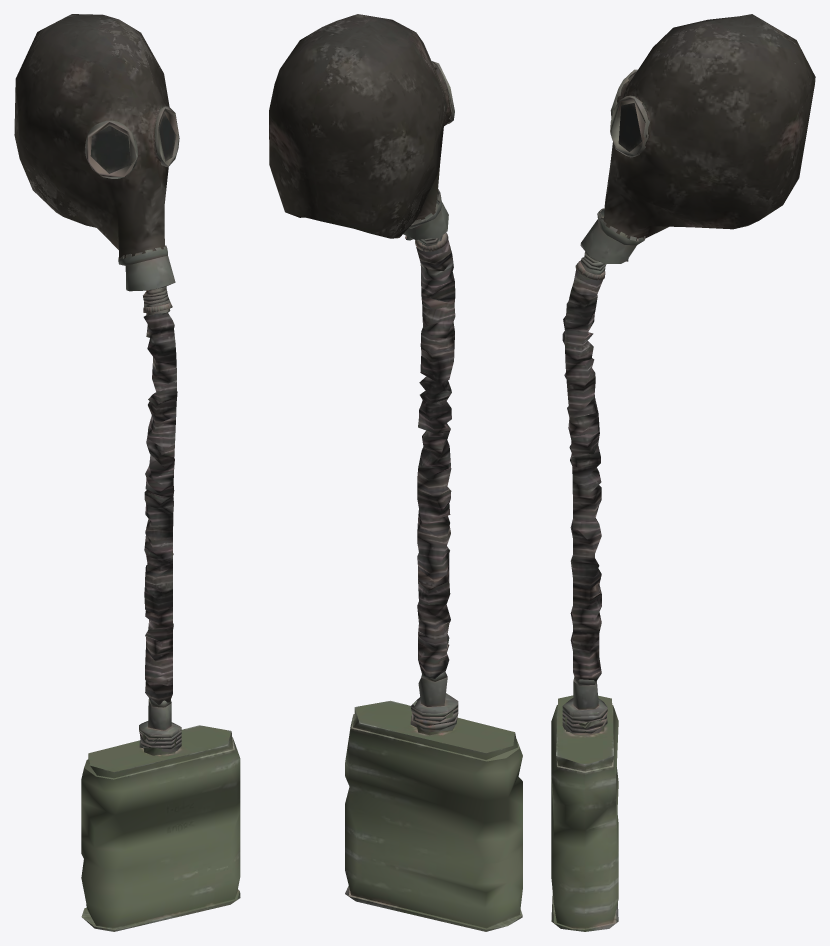
Rendered from old_gas_mask.glb.
3 renders of one model, left to right at view 1: azimuth 30°, elevation 25°; view 2: azimuth 150°, elevation 25°; view 3: azimuth 270°, elevation 25°, orthographic. The views are drawn at different scales.
Visible parts, largest first — view 1: old_gas_mask; view 2: old_gas_mask; view 3: old_gas_mask.
Part boxes in pixels (x1,y1,x2,y2): old_gas_mask: (14, 14, 240, 931); old_gas_mask: (269, 14, 522, 931); old_gas_mask: (551, 14, 815, 931).
Size of the model in its own units: 0.2105 by 1.12 by 0.3087.
1 material, 1 textured.
